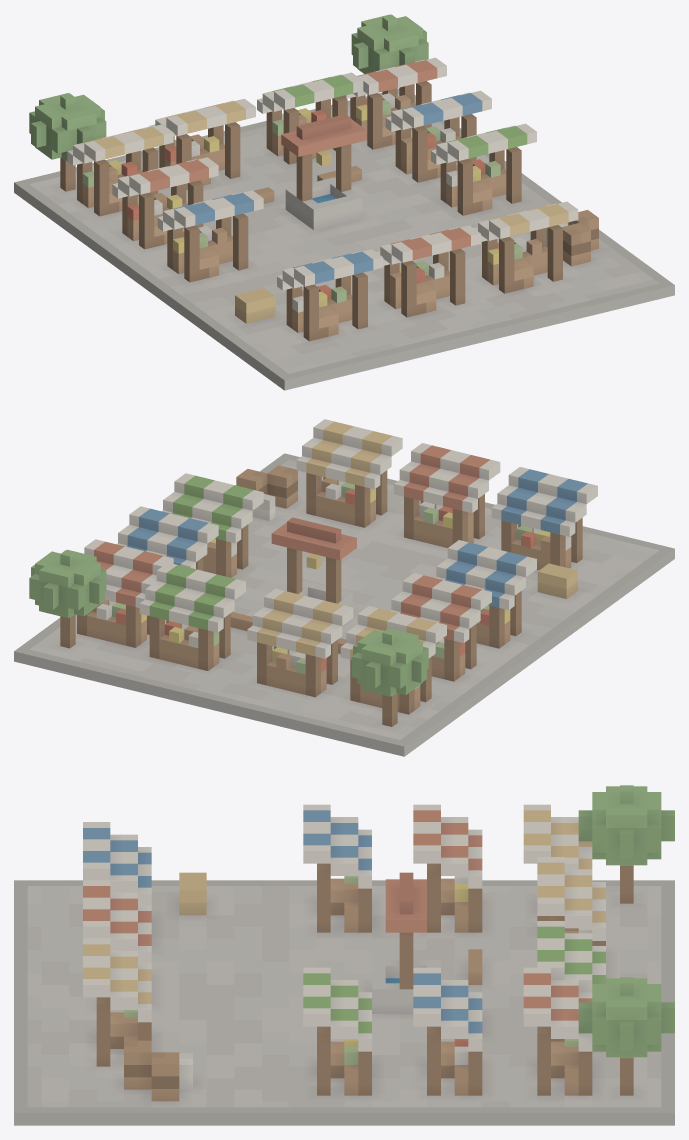
File: market_small.l1.glb
3 renders of one model, top to bottom at view 1: azimuth 30°, elevation 25°; view 2: azimuth 150°, elevation 25°; view 3: azimuth 270°, elevation 25°, orthographic. The views are drawn at different scales.
Parts seen in each view (by area): view 1: market_small; view 2: market_small; view 3: market_small.
Boxes of the visible parts, left/top/right/bottom form: market_small: left=14, top=14, right=674, bottom=390; market_small: left=14, top=419, right=674, bottom=756; market_small: left=14, top=785, right=674, bottom=1125.
Bounding box in the file's own units: 5 × 1.25 × 6.
